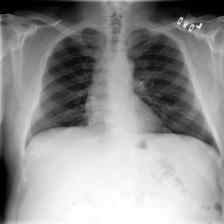normal: (18, 23, 224, 162)
